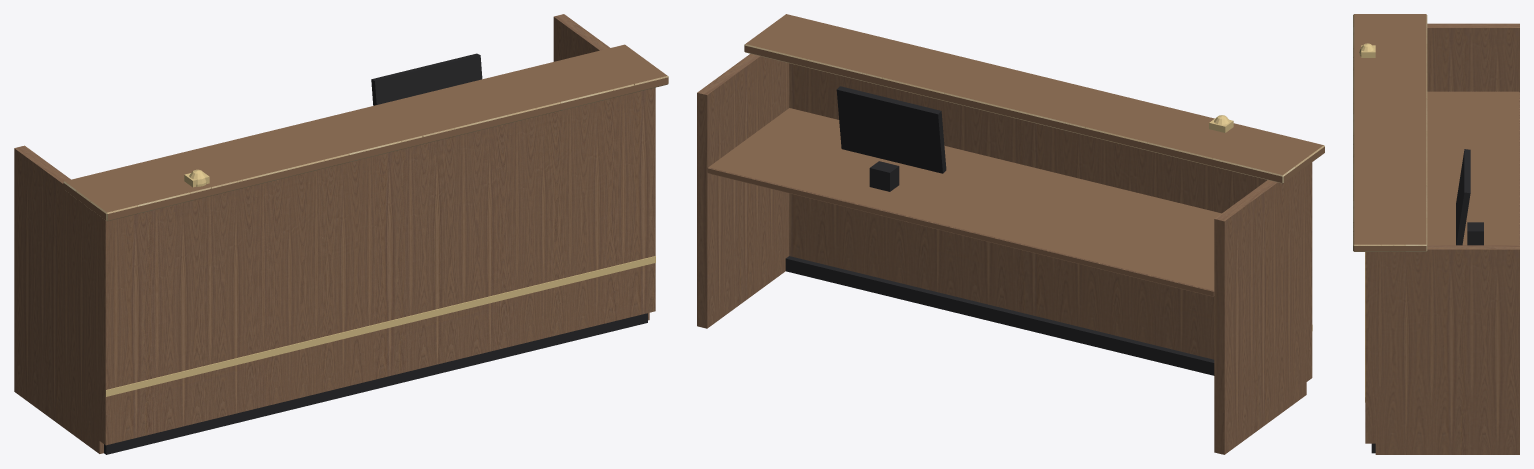
File: reception_desk.glb
3 renders of one model, left to right at view 1: azimuth 30°, elevation 25°; view 2: azimuth 150°, elevation 25°; view 3: azimuth 270°, elevation 25°, orthographic. The views are drawn at different scales.
Parts seen in each view (by area): view 1: reception_desk; view 2: reception_desk; view 3: reception_desk.
Boxes of the visible parts, box(x1,y1,x2,y2) form: reception_desk: box(14, 14, 668, 454); reception_desk: box(697, 14, 1324, 454); reception_desk: box(1353, 14, 1519, 454).
Size of the model in its own units: 2.66 by 1.2 by 0.81.
Materials: 4 (2 with a texture image).
